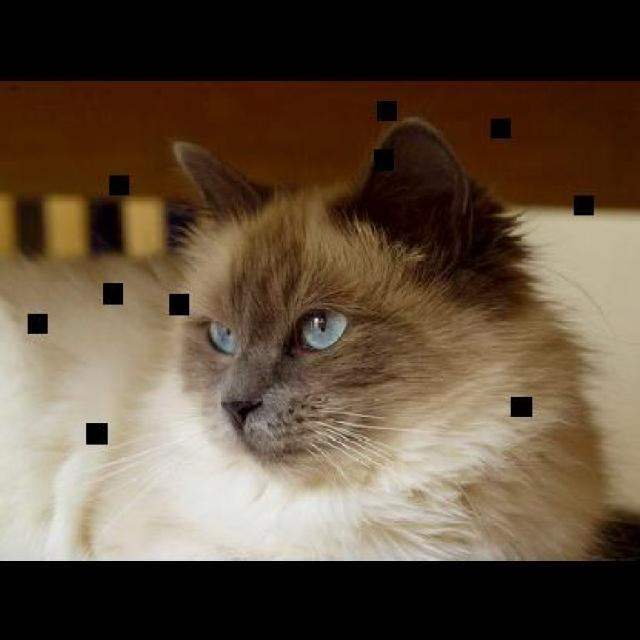unauthorized: (0, 114, 638, 560)
